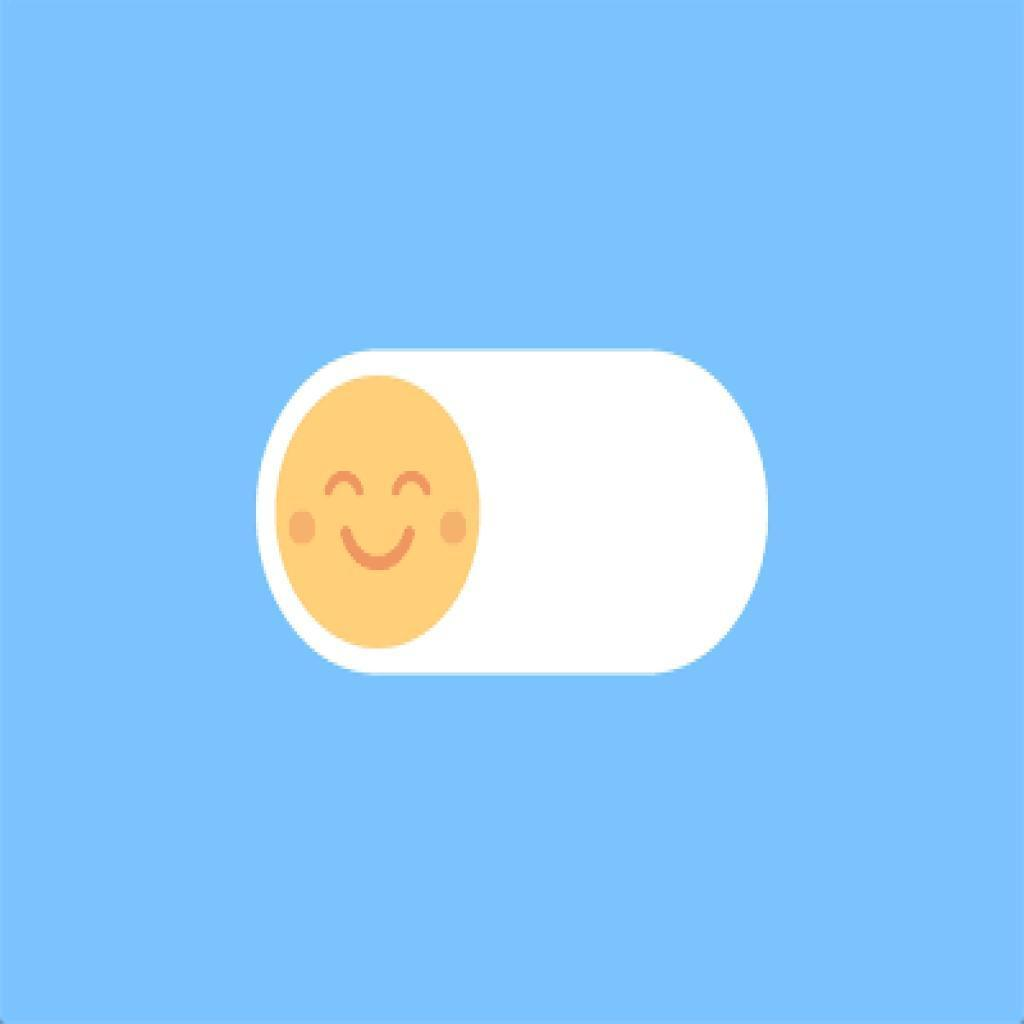switch: (258, 345, 770, 676)
